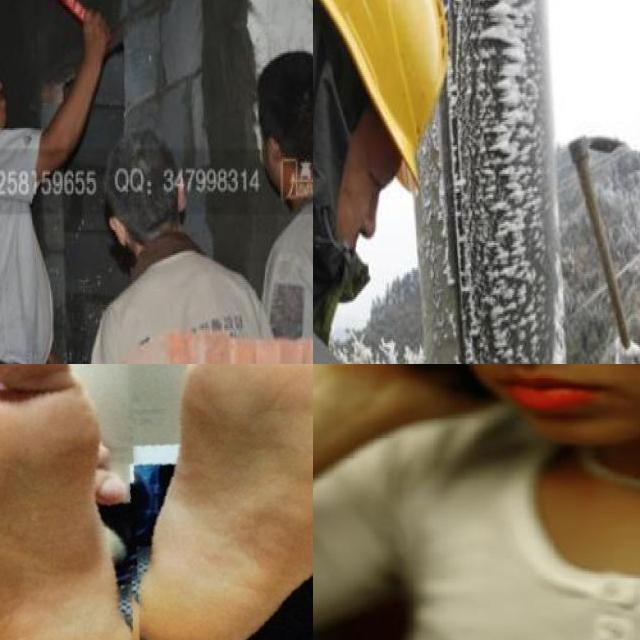Barefoots: (135, 364, 313, 640), (0, 364, 145, 640)
face_nomask: (418, 364, 640, 417), (0, 57, 14, 119)
hand_glove: (610, 335, 640, 364)
hand_noglove: (76, 2, 116, 62)
head_nohelmet: (101, 132, 174, 201), (255, 42, 313, 118)
person: (88, 123, 275, 364), (0, 30, 86, 364), (247, 43, 313, 364)
